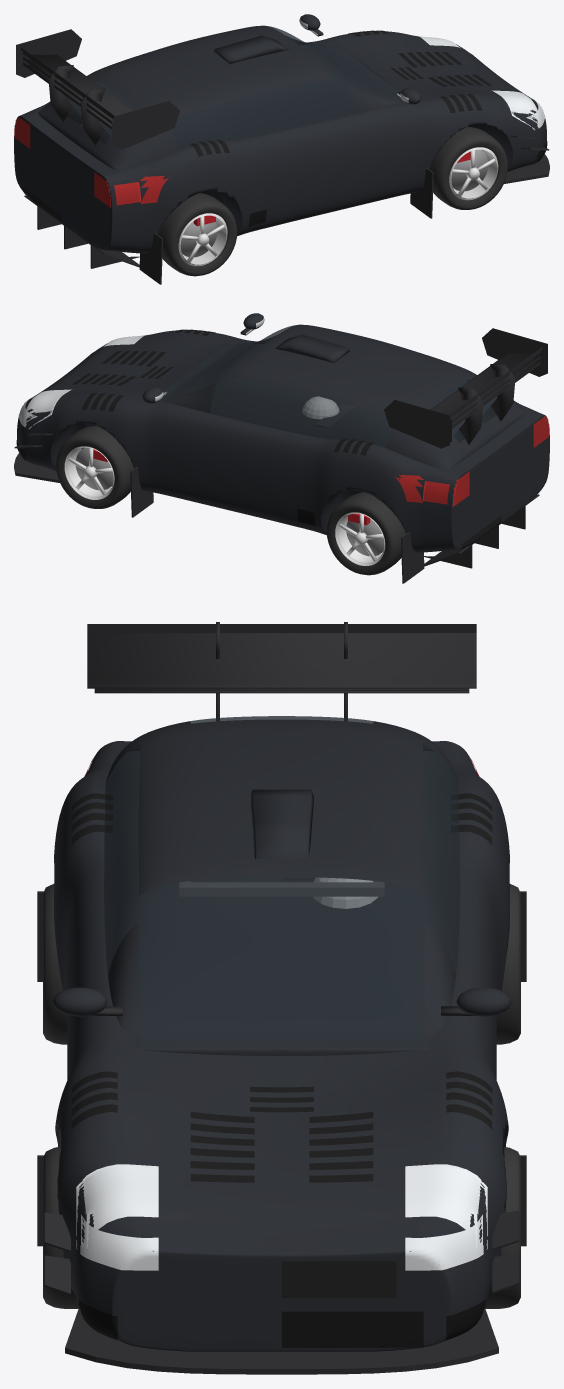
File: ford_fiesta_st_rx.glb
3 renders of one model, top to bottom at view 1: azimuth 30°, elevation 25°; view 2: azimuth 150°, elevation 25°; view 3: azimuth 270°, elevation 25°, orthographic. The views are drawn at different scales.
Parts seen in each view (by area): view 1: body, cabin, bumper_rear, wing_rear_up3, wheel_fr_spin, wheel_rr_spin, bumper_front, mudflaps, diffuser, wing_rear_up2, wing_rear, splitter_up (+2 smaller); view 2: body, cabin, bumper_rear, wing_rear_up3, wheel_fl_spin, wheel_rl_spin, bumper_front, mudflaps, diffuser, interior, wing_rear_up2, wing_rear (+2 smaller); view 3: body, cabin, bumper_front, wing_rear_up3, splitter_up, splitter, interior, canards, wheel_rl_spin, wheel_rr_spin, mudflaps, wheel_fl_spin (+6 smaller).
Part boxes in pixels (x1,y1,x2,y2): body: (44, 30, 515, 253); cabin: (38, 25, 402, 169); bumper_rear: (14, 105, 141, 252); wing_rear_up3: (16, 29, 179, 149); wheel_fr_spin: (430, 127, 507, 209); wheel_rr_spin: (158, 193, 237, 276); bumper_front: (415, 35, 547, 170); mudflaps: (139, 168, 433, 284); diffuser: (24, 195, 139, 268); wing_rear_up2: (18, 43, 113, 140); wing_rear: (18, 50, 113, 142); splitter_up: (504, 154, 549, 183); body: (48, 329, 519, 552); cabin: (161, 324, 525, 468); bumper_rear: (422, 404, 549, 551); wing_rear_up3: (384, 328, 547, 448); wheel_fl_spin: (56, 426, 133, 508); wheel_rl_spin: (326, 492, 405, 575); bumper_front: (16, 334, 148, 469); mudflaps: (130, 467, 424, 583); diffuser: (424, 494, 539, 568); interior: (302, 396, 356, 427); wing_rear_up2: (450, 342, 545, 439); wing_rear: (450, 355, 545, 441); body: (54, 760, 509, 1289); cabin: (104, 716, 459, 1055); bumper_front: (65, 1164, 499, 1351); wing_rear_up3: (87, 622, 476, 720); splitter_up: (65, 1308, 498, 1374); splitter: (72, 1317, 491, 1363); interior: (179, 877, 384, 908); canards: (44, 1210, 519, 1295); wheel_rl_spin: (496, 884, 520, 1044); wheel_rr_spin: (43, 884, 67, 1044); mudflaps: (37, 891, 526, 1246); wheel_fl_spin: (485, 1147, 520, 1308).
Size of the model in its own units: 4.17 by 1.54 by 1.95.
